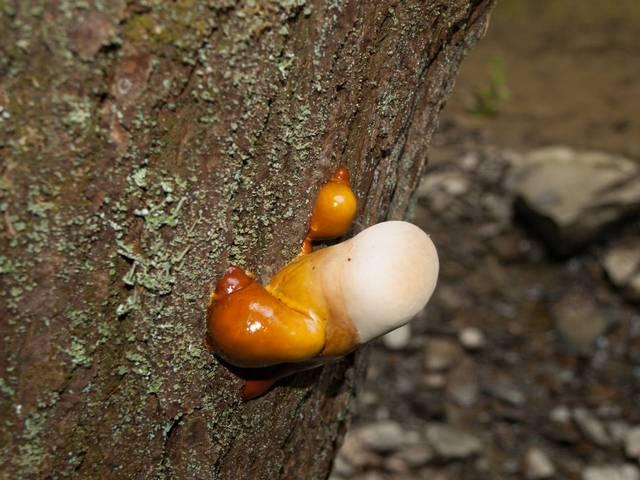poisonous_mushroom: (188, 139, 445, 406)
